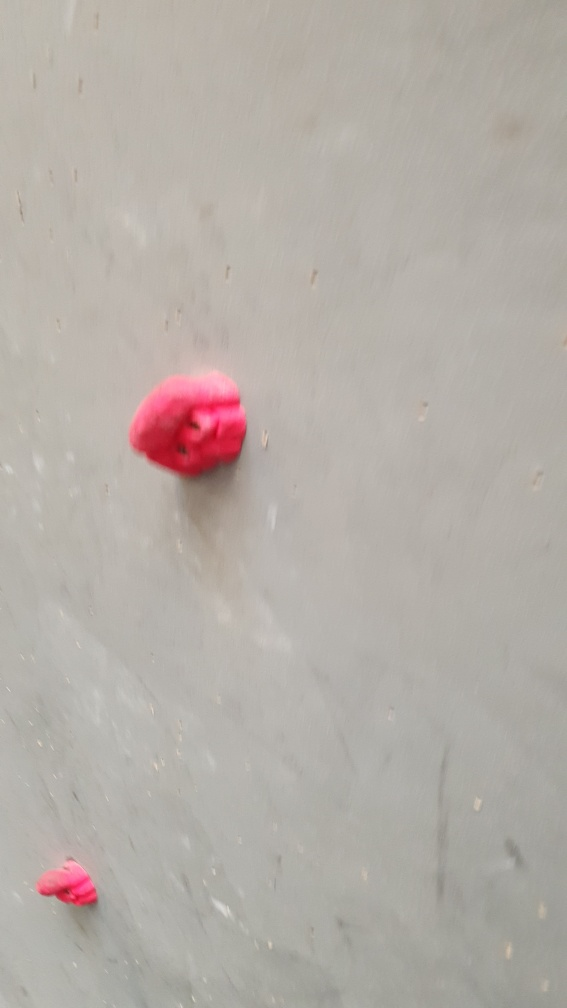Jug: (126, 367, 253, 482), (35, 855, 101, 910)
